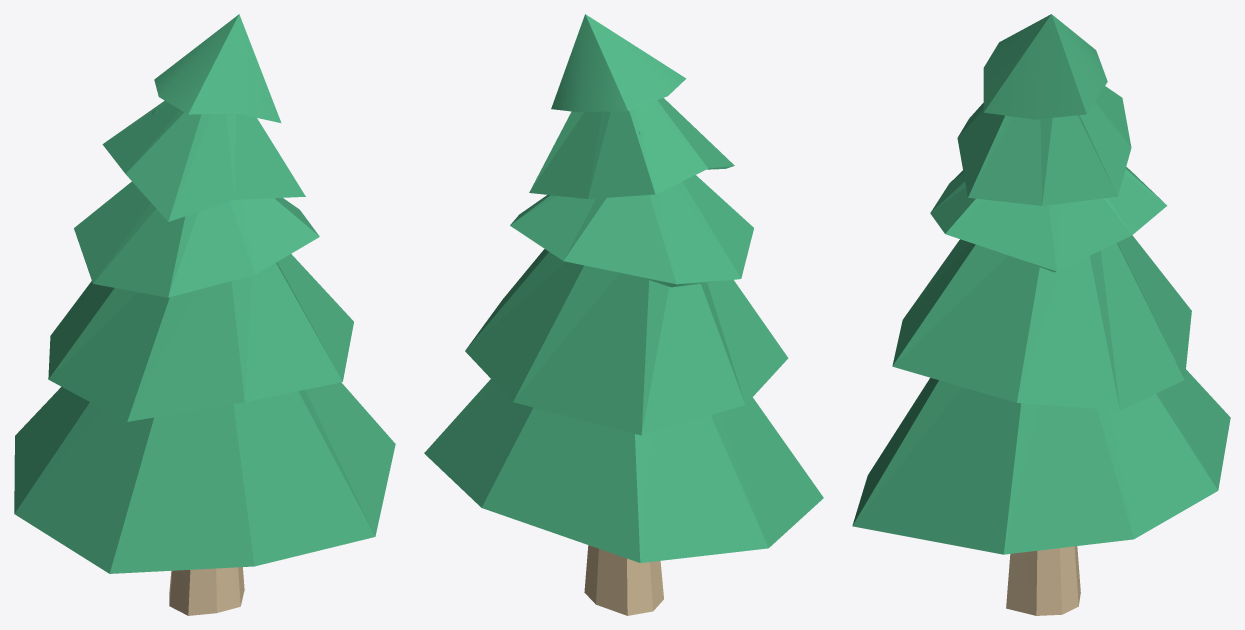
Rendered from sapin2clair.FBX.
3 views of the same model, side by side, from view 1: azimuth 30°, elevation 25°; view 2: azimuth 150°, elevation 25°; view 3: azimuth 270°, elevation 25° (orthographic). The views are drawn at different scales.
Parts seen in each view (by area): view 1: Pyramid001; view 2: Pyramid001; view 3: Pyramid001.
Part boxes in pixels (x1,y1,x2,y2): Pyramid001: (14,14,395,615); Pyramid001: (424,14,823,615); Pyramid001: (852,14,1230,615).
Size of the model in its own units: 78.9 by 129 by 72.47.
